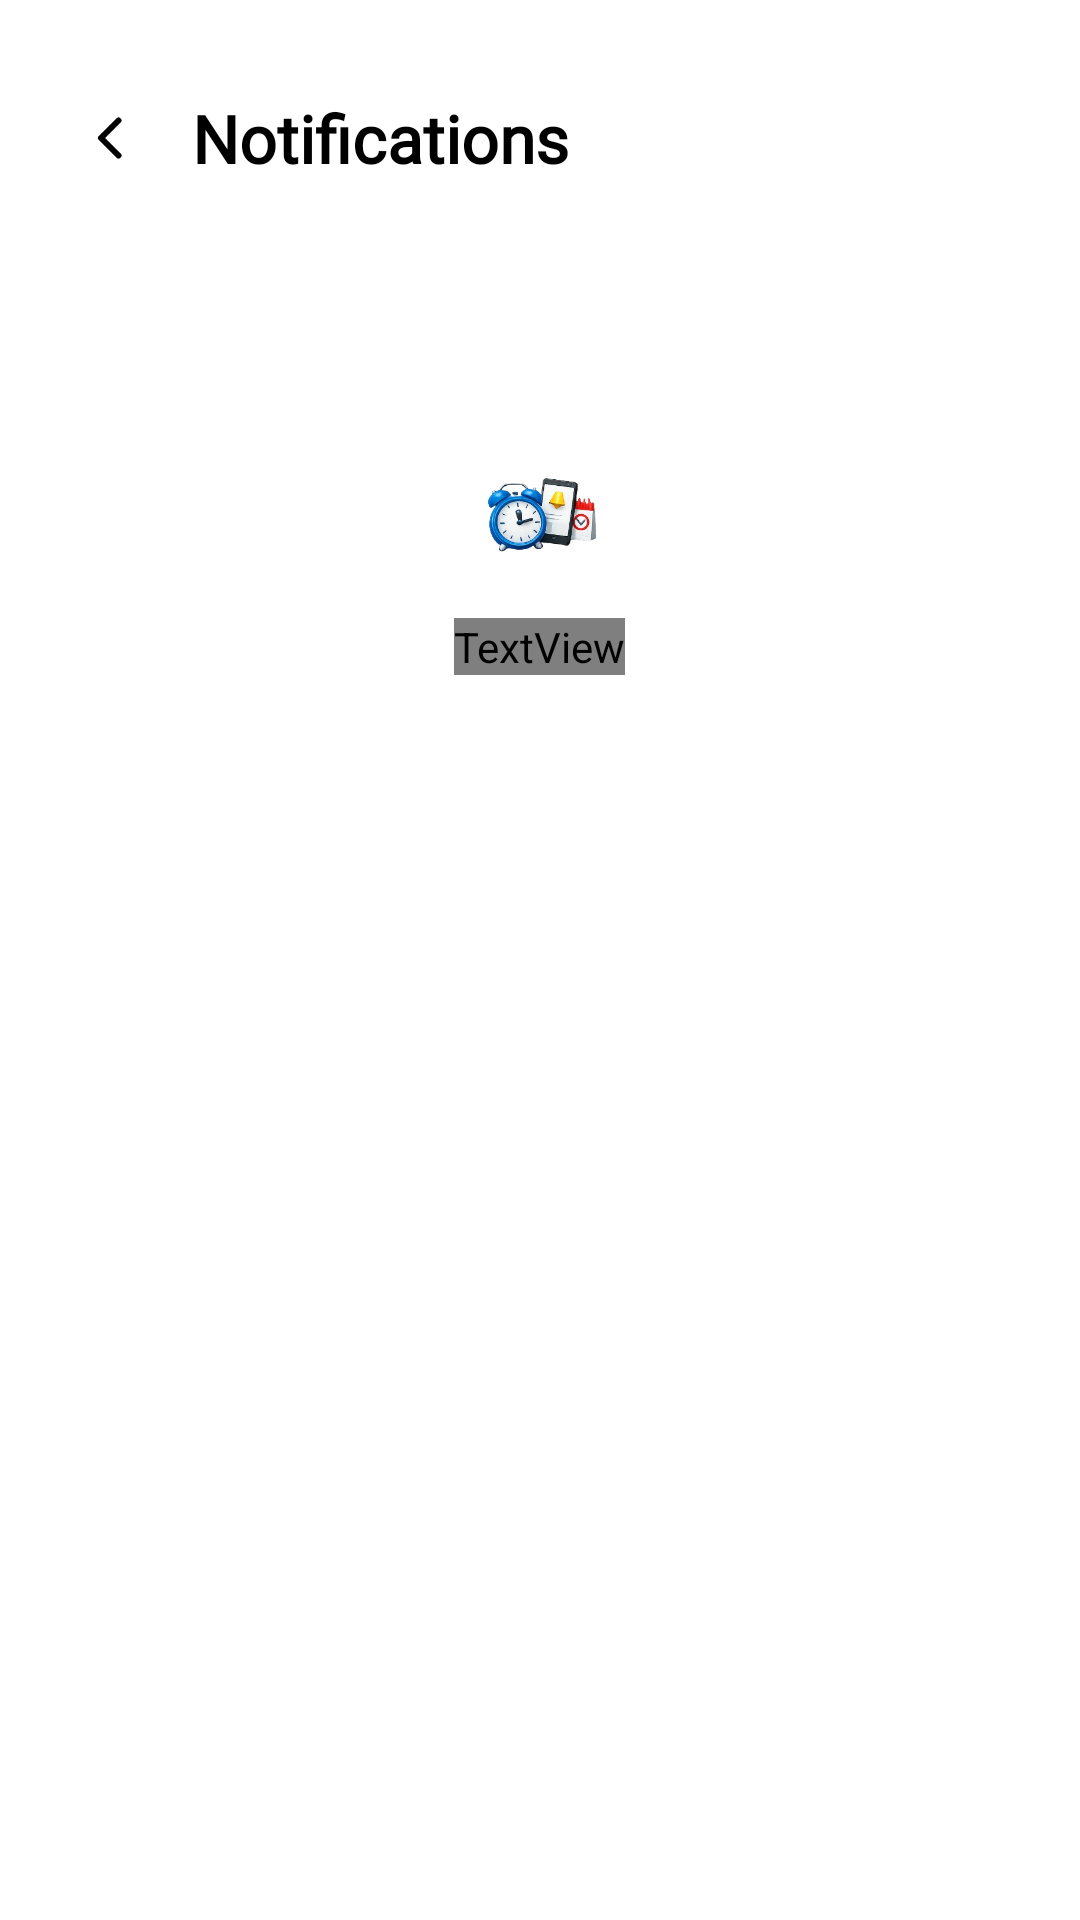

Screen size 1080*1920. Icon name, then its box in pixels as (x1, y1, x2, y2):
arrow back: (98, 117, 122, 159)
